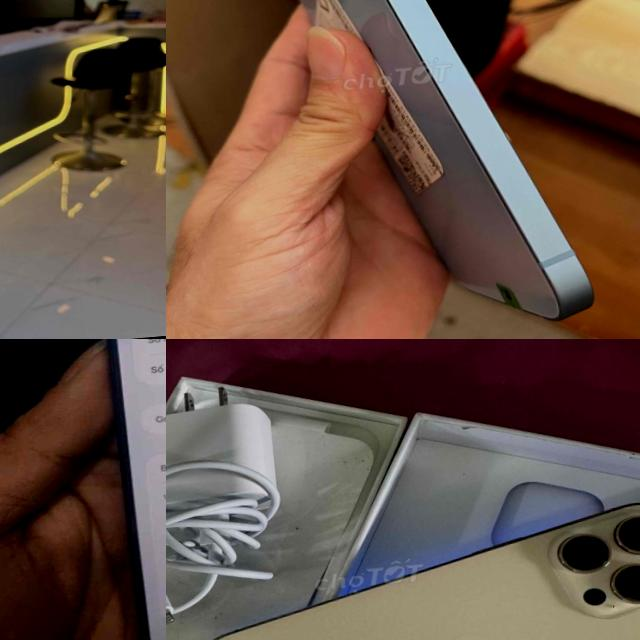gen_14: (249, 0, 596, 339), (181, 497, 640, 640)
gen_16: (108, 339, 166, 640)
